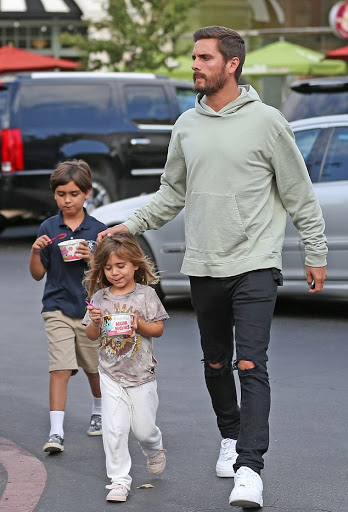Person: (166, 25, 327, 504), (82, 233, 170, 501), (29, 159, 100, 451)
